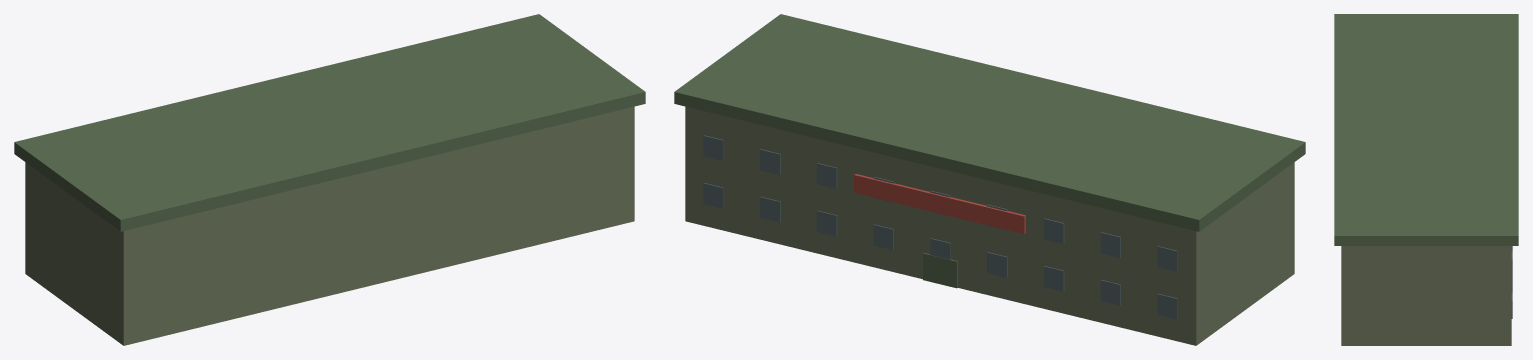
The model's file is b_barracks.glb.
3 views of the same model, side by side, from view 1: azimuth 30°, elevation 25°; view 2: azimuth 150°, elevation 25°; view 3: azimuth 270°, elevation 25° (orthographic). The views are drawn at different scales.
Parts seen in each view (by area): view 1: walls; view 2: walls; view 3: walls.
Part boxes in pixels (x1,y1,x2,y2): walls: [14, 14, 645, 345]; walls: [674, 14, 1305, 345]; walls: [1334, 14, 1518, 345].
Size of the model in its own units: 37 by 8.8 by 13.
